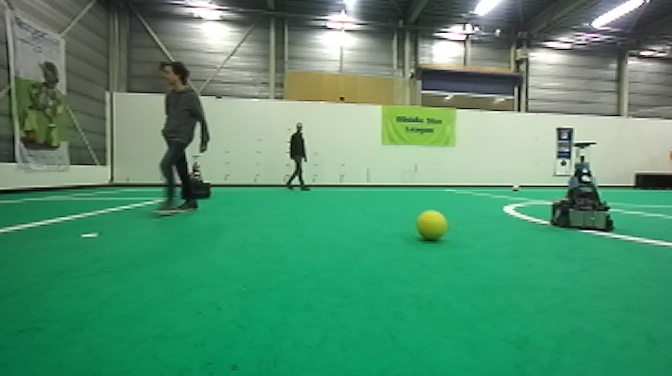ball: (414, 208, 447, 242), (510, 182, 522, 194)
human: (155, 58, 211, 216), (284, 123, 310, 193)
robot: (549, 139, 616, 232), (177, 153, 215, 201)
